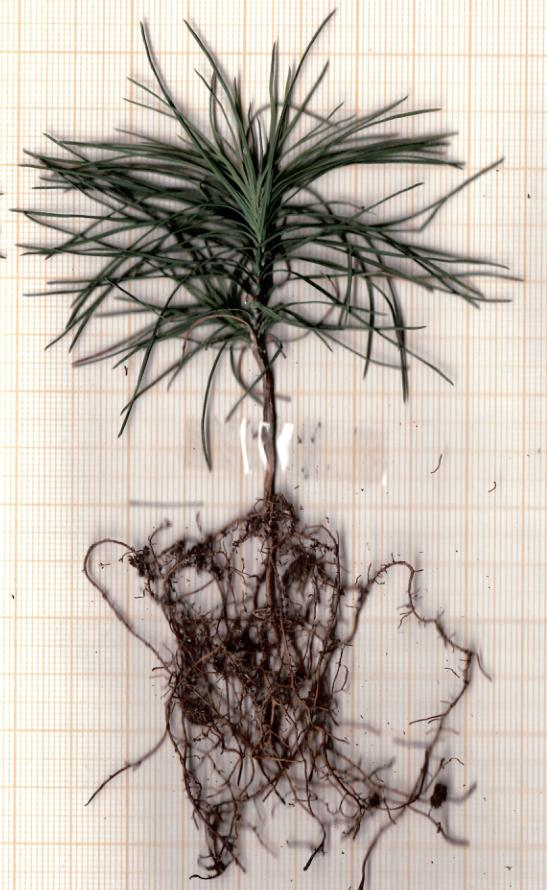flower: (16, 20, 530, 427)
root: (106, 499, 499, 871)
stem: (244, 346, 287, 502)
